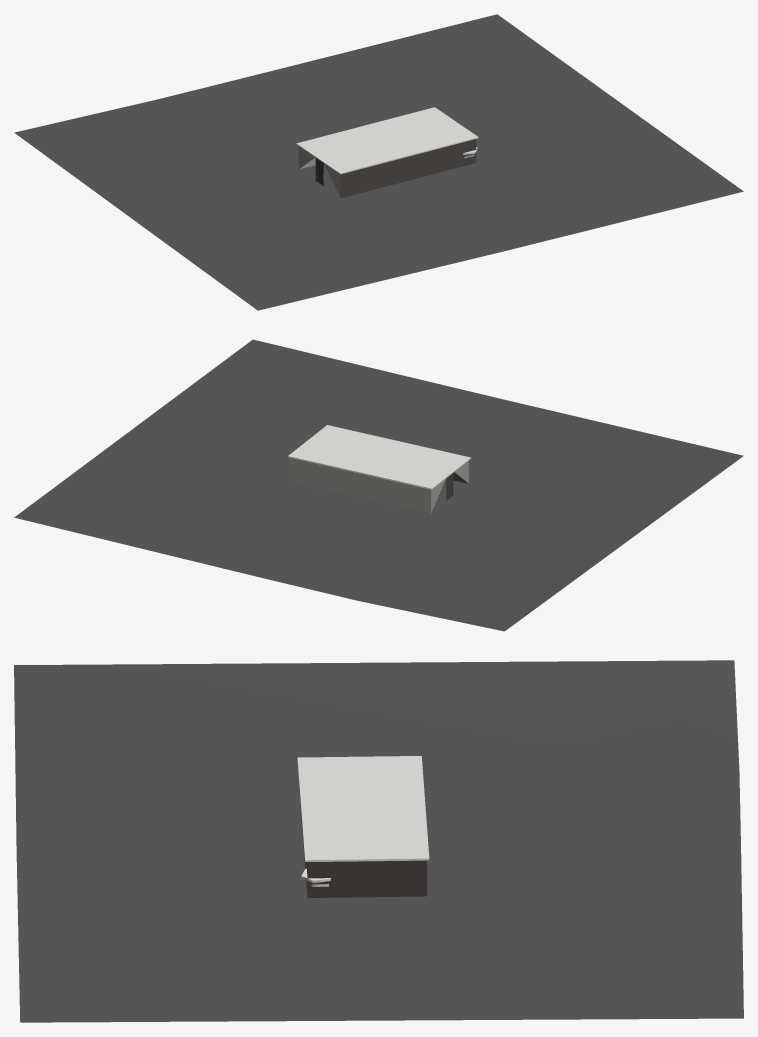
Rendered from fsg-bank.glb.
3 views of the same model, one above another, from view 1: azimuth 30°, elevation 25°; view 2: azimuth 150°, elevation 25°; view 3: azimuth 270°, elevation 25° (orthographic). The views are drawn at different scales.
Visible parts, largest first — view 1: LOD0; view 2: LOD0; view 3: LOD0.
Boxes of the visible parts, x1,y1,x2,y2 form: LOD0: (14, 14, 743, 310); LOD0: (14, 339, 743, 631); LOD0: (14, 660, 743, 1022).
Size of what is drawn, in the model's own units: 214 by 10.86 by 185.
Materials: 2 (2 with a texture image).
